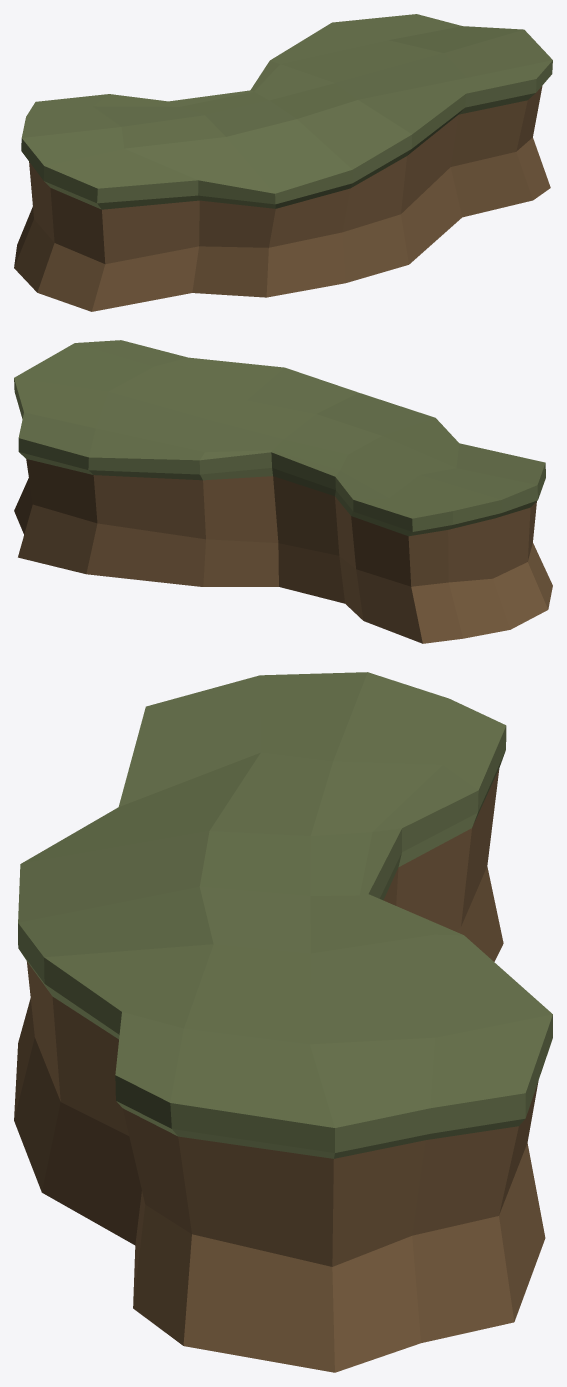
Rendered from SM_Envr_Nature_Cliff_05.fbx.
3 views of the same model, one above another, from view 1: azimuth 30°, elevation 25°; view 2: azimuth 150°, elevation 25°; view 3: azimuth 270°, elevation 25° (orthographic). The views are drawn at different scales.
Visible parts, largest first — view 1: SM_Envr_Nature_Cliff_05; view 2: SM_Envr_Nature_Cliff_05; view 3: SM_Envr_Nature_Cliff_05.
Part boxes in pixels (x1,y1,x2,y2): SM_Envr_Nature_Cliff_05: (14,14,552,311); SM_Envr_Nature_Cliff_05: (14,340,552,643); SM_Envr_Nature_Cliff_05: (14,672,552,1372).
Size of the model in its own units: 611 by 161 by 303.
